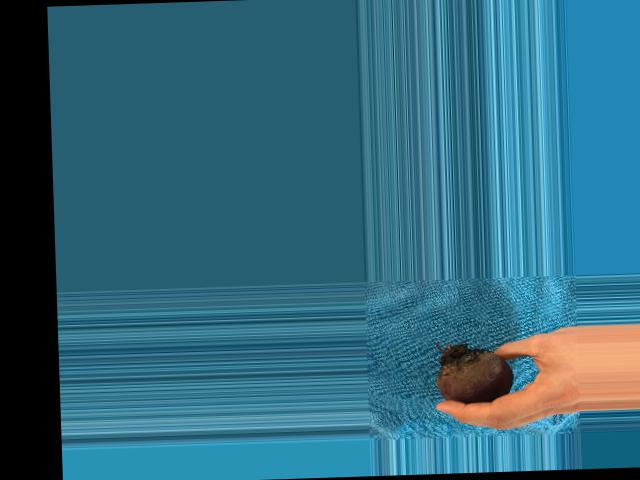beet: (435, 340, 513, 403)
